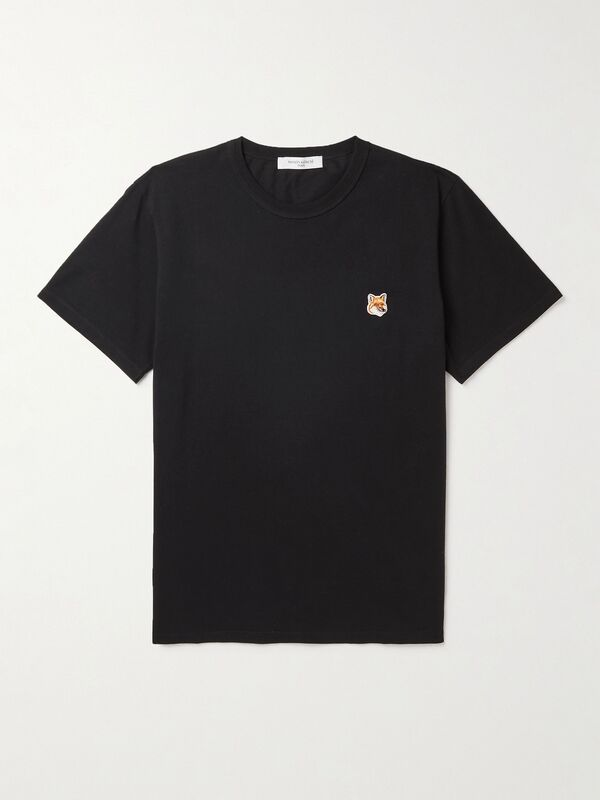tshirt: (29, 131, 568, 648)
